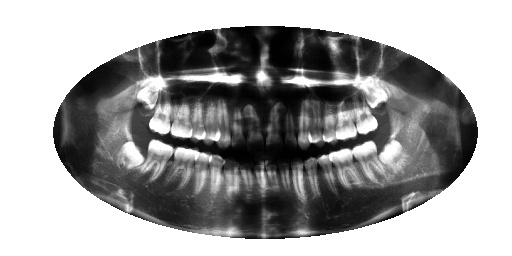i11healthy: (220, 155, 241, 206)
i12healthy: (204, 148, 225, 204)
i13healthy: (191, 145, 213, 202)
i14healthy: (166, 141, 201, 193)
i15healthy: (133, 132, 176, 185)
i16healthy: (112, 133, 145, 173)
i1healthy: (374, 133, 411, 178)
i2healthy: (349, 138, 388, 185)
i3healthy: (328, 149, 364, 195)
i4healthy: (315, 151, 337, 200)
i5healthy: (302, 154, 322, 202)
i6healthy: (287, 156, 310, 206)
i7decay: (278, 152, 292, 205)
i8decay: (263, 151, 279, 200)
i9healthy: (251, 153, 267, 205)
u10healthy: (226, 97, 248, 153), (237, 153, 254, 207)
u11healthy: (211, 96, 232, 151)
u12healthy: (200, 95, 224, 148)
u13healthy: (186, 92, 208, 146)
u14healthy: (170, 90, 194, 142)
u15healthy: (146, 91, 176, 138)
u16healthy: (131, 71, 161, 120)
u1healthy: (354, 68, 392, 116)
u2healthy: (350, 96, 379, 139)
u3healthy: (333, 100, 359, 145)
u4healthy: (319, 100, 337, 146)
u5healthy: (304, 97, 325, 147)
u6healthy: (294, 95, 315, 151)
u7decay: (281, 100, 299, 151)
u8decay: (263, 98, 283, 151)
u9healthy: (242, 100, 263, 153)
